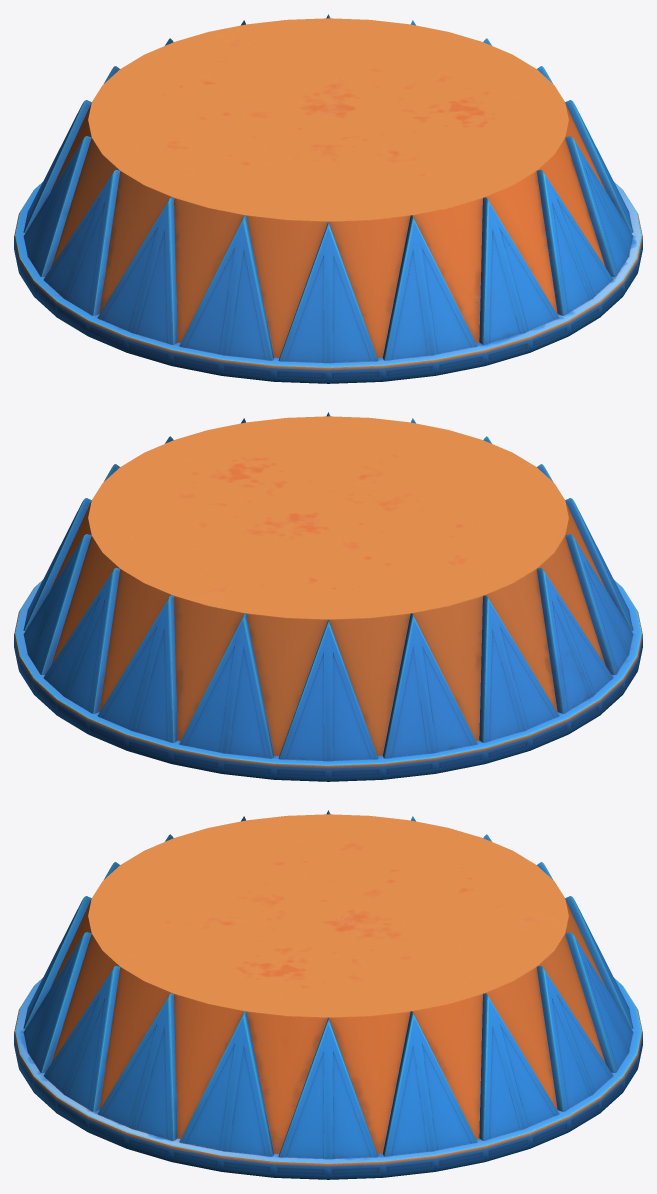
File: ShowPlace.fbx
3 renders of one model, top to bottom at view 1: azimuth 30°, elevation 25°; view 2: azimuth 150°, elevation 25°; view 3: azimuth 270°, elevation 25°, orthographic.
Parts seen in each view (by area): view 1: ShowPlace; view 2: ShowPlace; view 3: ShowPlace.
Part boxes in pixels (box(x1,y1,x2,y2)): ShowPlace: box(14, 14, 642, 383); ShowPlace: box(14, 412, 642, 781); ShowPlace: box(14, 810, 642, 1179).
Size of the model in its own units: 419 by 98.09 by 419.
